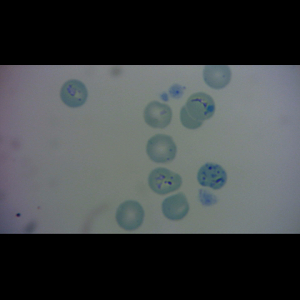aggregate reticulocyte: (196, 161, 229, 192)
erythrocyte: (146, 166, 184, 196), (114, 199, 145, 232), (142, 99, 174, 130), (59, 78, 90, 110), (185, 91, 217, 122), (179, 103, 207, 131)
punctate reticulocyte: (145, 132, 178, 165), (160, 190, 191, 222)
